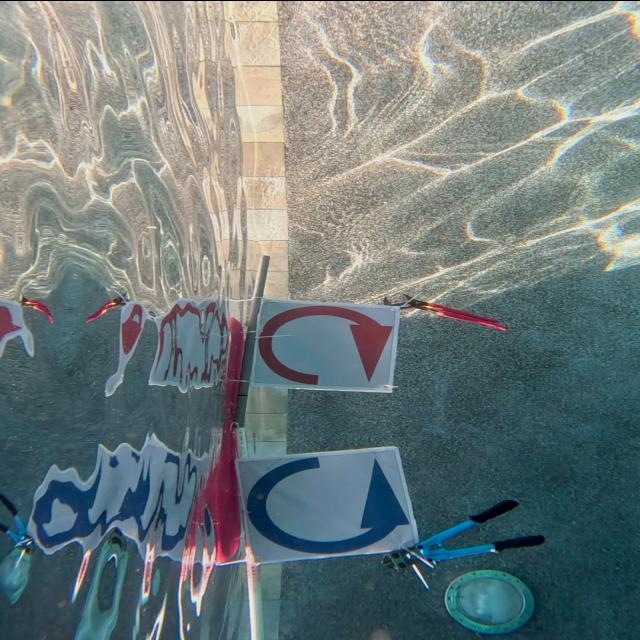blue_side: (246, 448, 404, 563)
red_side: (252, 302, 398, 388)
